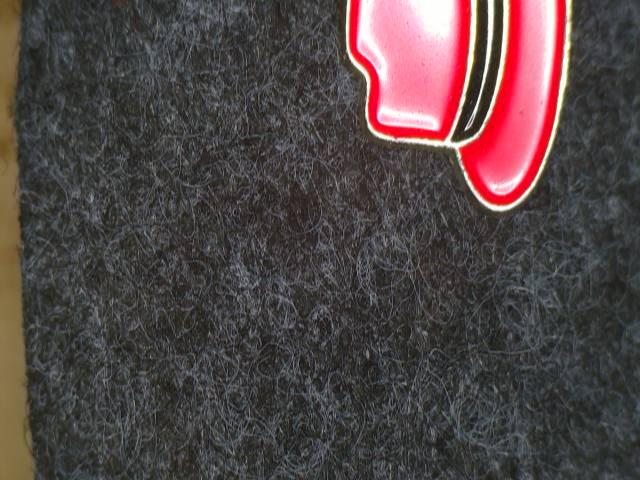Red-Hat: (309, 0, 599, 267)
